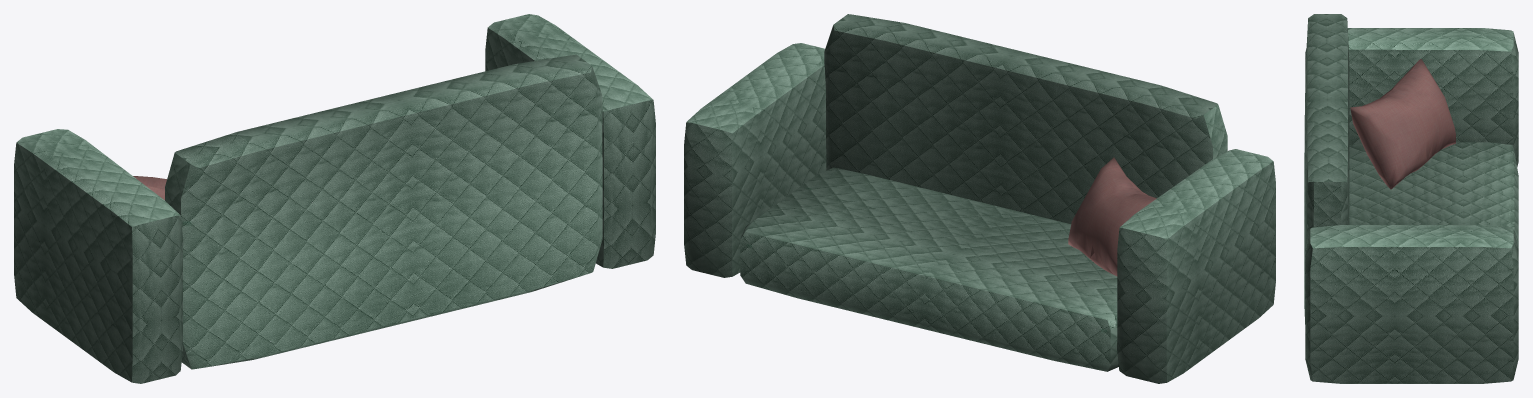
The model's file is FUR0210072.fbx.
3 views of the same model, side by side, from view 1: azimuth 30°, elevation 25°; view 2: azimuth 150°, elevation 25°; view 3: azimuth 270°, elevation 25° (orthographic). The views are drawn at different scales.
Parts seen in each view (by area): view 1: smFUR0210072; view 2: smFUR0210072; view 3: smFUR0210072.
Boxes of the visible parts, x1=… form: smFUR0210072: x1=14, y1=14, x2=655, y2=383; smFUR0210072: x1=684, y1=14, x2=1275, y2=383; smFUR0210072: x1=1304, y1=14, x2=1518, y2=383.
Size of the model in its own units: 334 by 130 by 137.
1 material, 1 textured.
